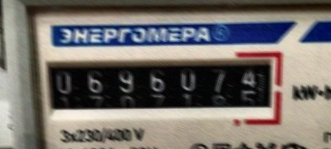0: (53, 66, 72, 91), (180, 63, 196, 89)
4: (241, 61, 257, 86)
5: (241, 85, 256, 104)
6: (86, 64, 105, 91), (148, 65, 165, 89)
7: (209, 64, 227, 90)
9: (116, 65, 135, 90)
screen: (35, 43, 287, 125)
